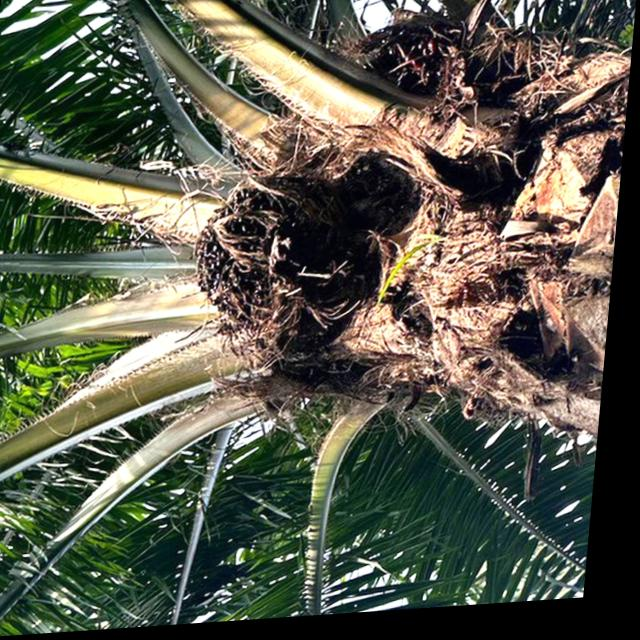unripe: (188, 162, 391, 364)
